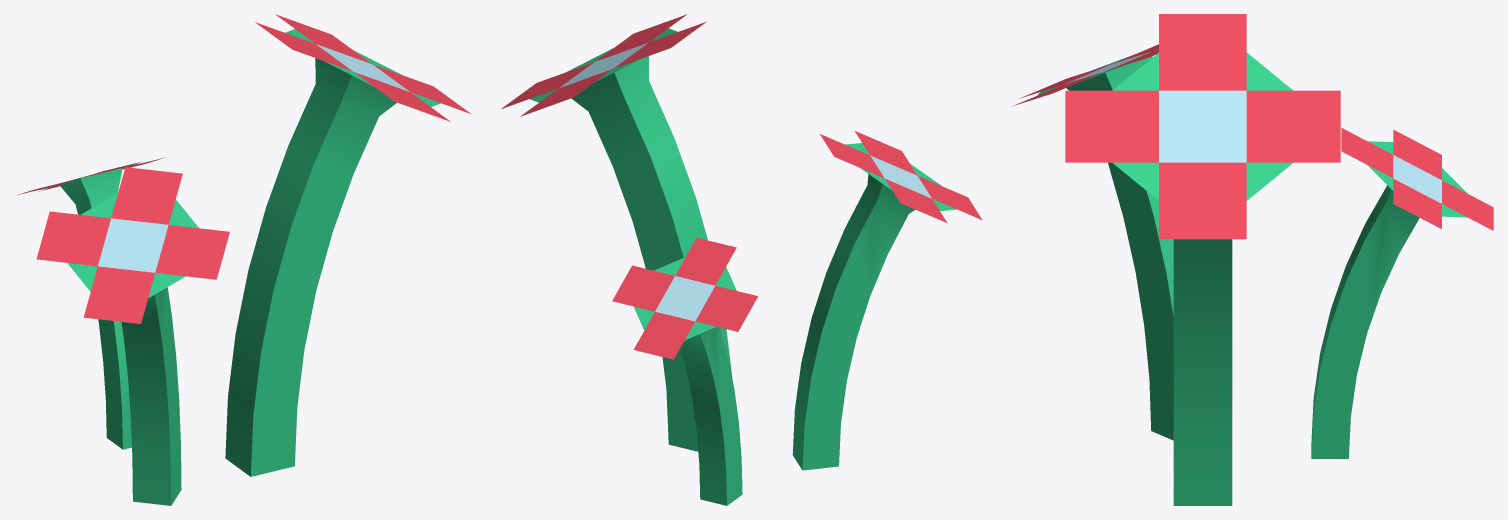
The model's file is flowers.glb.
3 renders of one model, left to right at view 1: azimuth 30°, elevation 25°; view 2: azimuth 150°, elevation 25°; view 3: azimuth 270°, elevation 25°, orthographic. The views are drawn at different scales.
Parts seen in each view (by area): view 1: flowers; view 2: flowers; view 3: flowers.
Part boxes in pixels (<box>): flowers: <box>18,14,470,505</box>; flowers: <box>501,14,982,505</box>; flowers: <box>1012,14,1493,505</box>.
Size of the model in its own units: 0.4975 by 0.464 by 0.4168.
